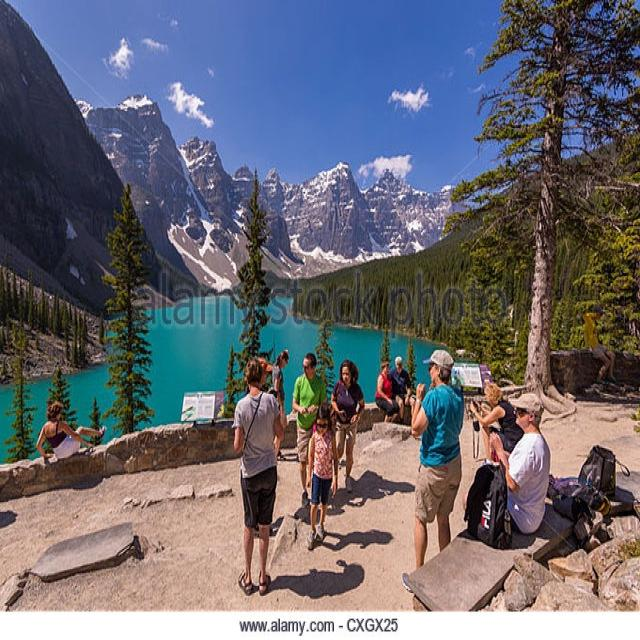body: (409, 348, 465, 570), (233, 354, 279, 596), (489, 391, 552, 546), (245, 357, 284, 538), (291, 351, 329, 509), (304, 401, 340, 550), (329, 356, 366, 494), (467, 382, 525, 459), (34, 400, 107, 460), (581, 304, 618, 387), (270, 348, 289, 461), (388, 356, 414, 425), (374, 360, 401, 424), (262, 386, 284, 462)
